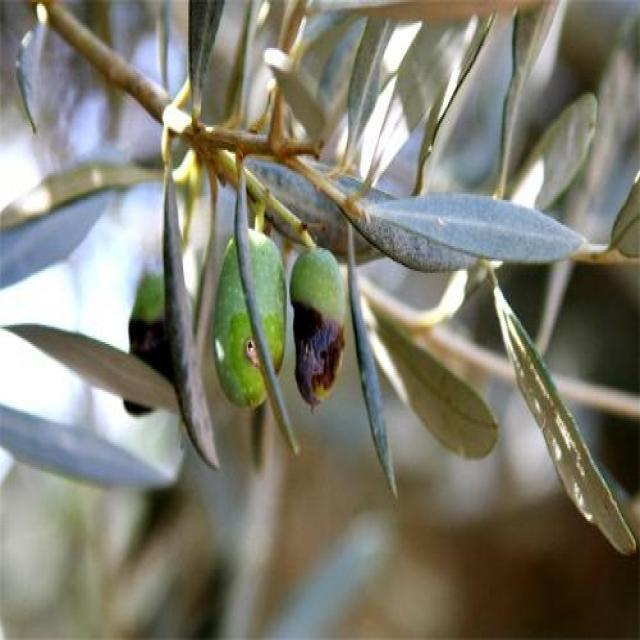Anthracnose: (290, 248, 344, 408), (212, 238, 262, 406)
